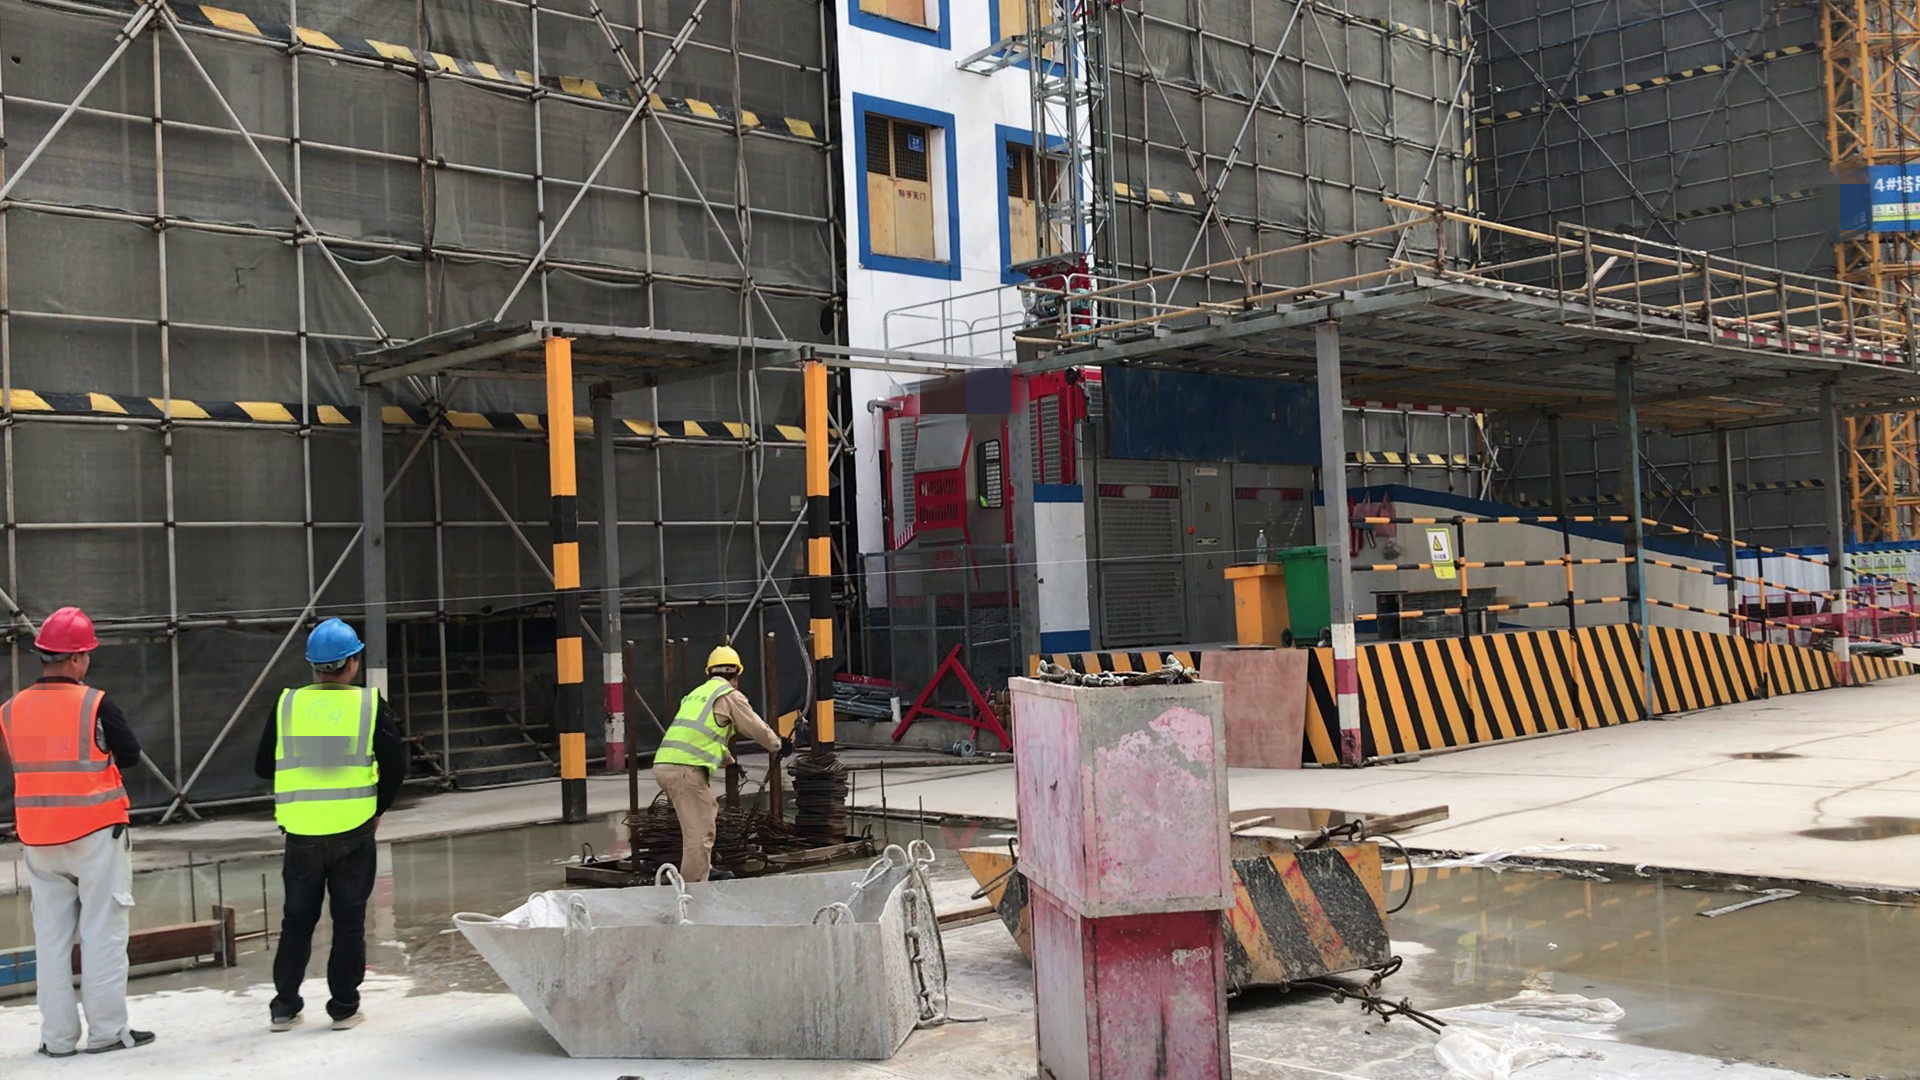fence: (1344, 503, 1920, 691)
helmet: (300, 611, 368, 669), (36, 605, 103, 661), (705, 643, 746, 675)
hopper: (445, 854, 932, 1070), (959, 825, 1447, 1010)
person: (4, 602, 165, 1059), (253, 609, 415, 1047), (647, 636, 796, 885)
slogan: (1422, 514, 1474, 600)
vest: (7, 680, 135, 852), (276, 680, 382, 840), (656, 677, 742, 771)
